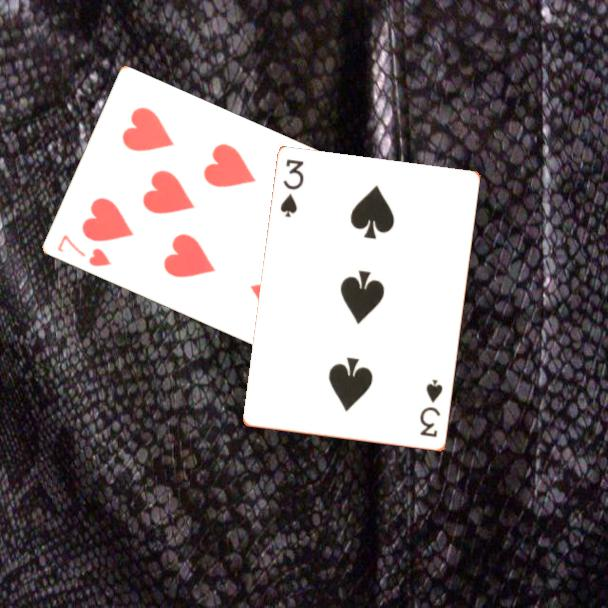h07: (53, 231, 113, 270)
s03: (277, 156, 307, 221), (416, 376, 446, 440)
